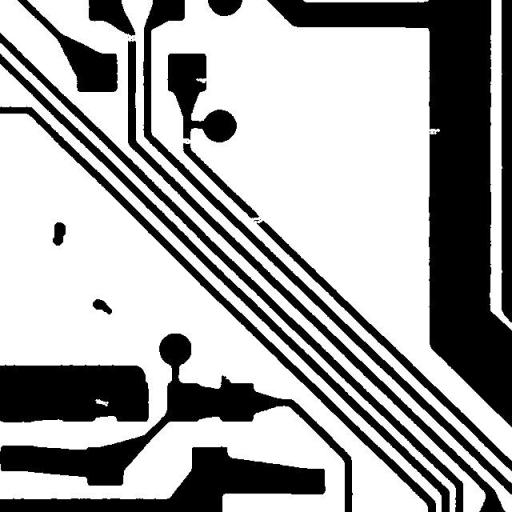copper: (45, 214, 73, 253), (85, 291, 119, 322)
mousebite: (415, 120, 447, 142), (188, 70, 221, 90)
open: (112, 26, 146, 50), (242, 209, 274, 230), (173, 130, 200, 152)
pin-hole: (87, 391, 116, 414)
spur: (213, 367, 239, 395)
